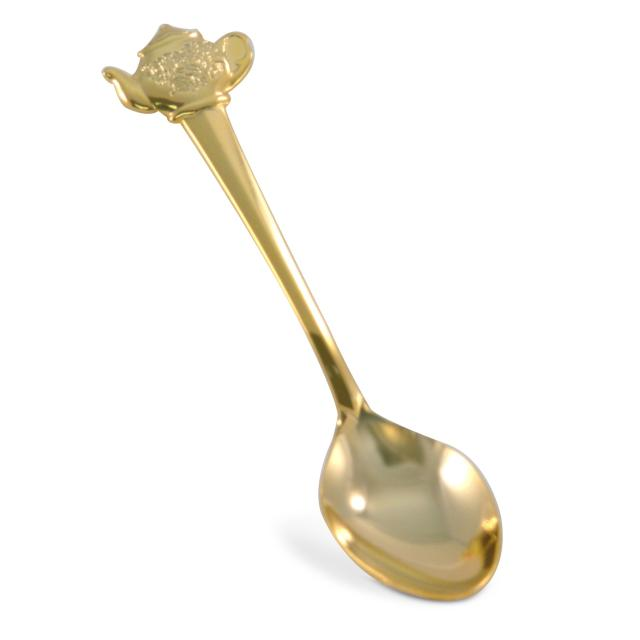spoon: (83, 13, 516, 608)
